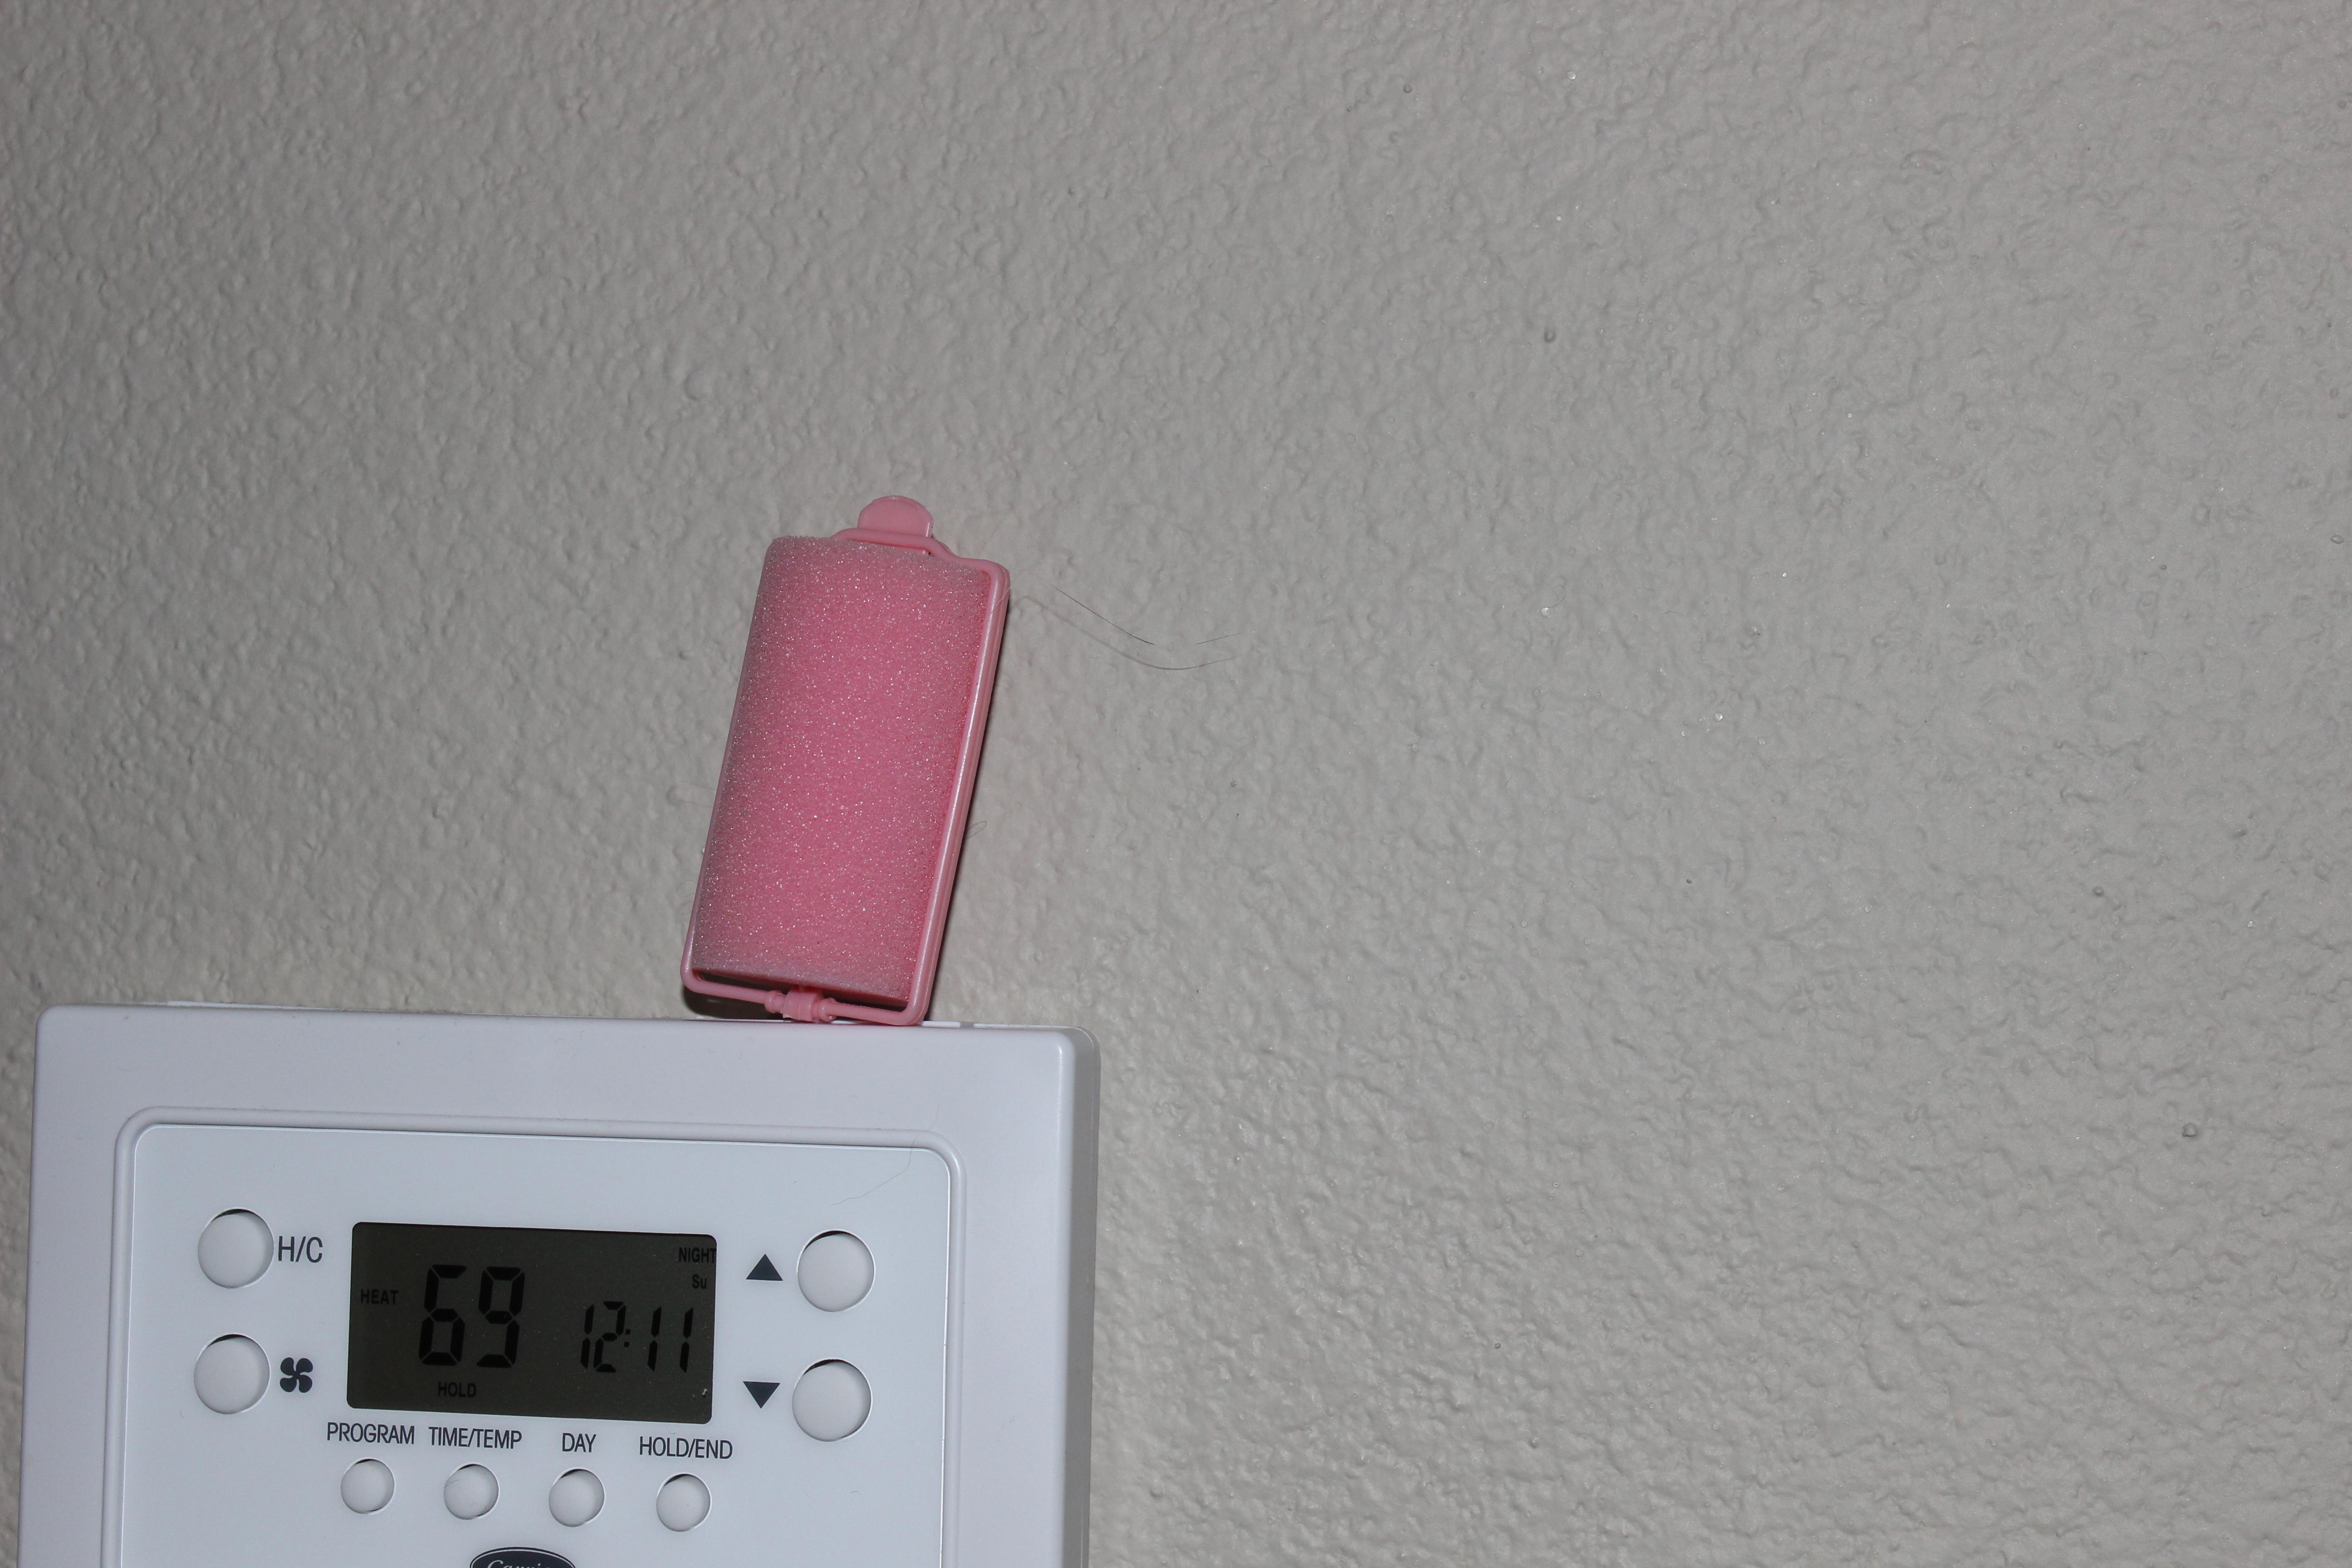hairRoller: (651, 478, 1040, 1062)
